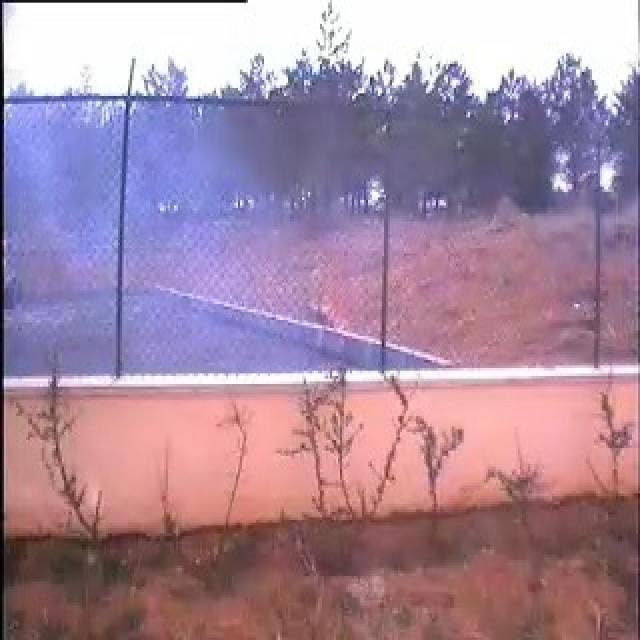smoke: (62, 174, 299, 368)
